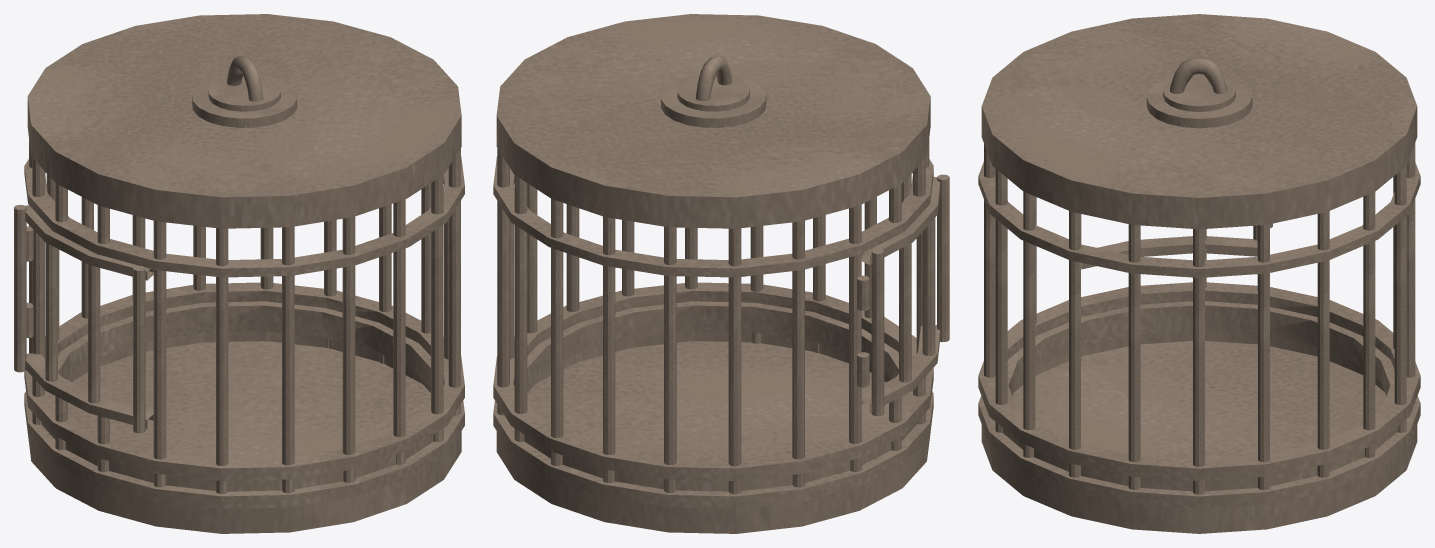
Rendered from jaula 1.fbx.
3 renders of one model, left to right at view 1: azimuth 30°, elevation 25°; view 2: azimuth 150°, elevation 25°; view 3: azimuth 270°, elevation 25°, orthographic.
Parts seen in each view (by area): view 1: pCylinder45, pCylinder44; view 2: pCylinder45, pCylinder44; view 3: pCylinder45, pCylinder44.
Part boxes in pixels (x1,y1,x2,y2): pCylinder45: [24, 14, 464, 533]; pCylinder44: [14, 204, 153, 433]; pCylinder45: [493, 14, 933, 533]; pCylinder44: [861, 174, 949, 416]; pCylinder45: [978, 14, 1420, 533]; pCylinder44: [1081, 214, 1257, 269].
Bounding box in the file's own units: 2.05 × 1.93 × 2.01.
